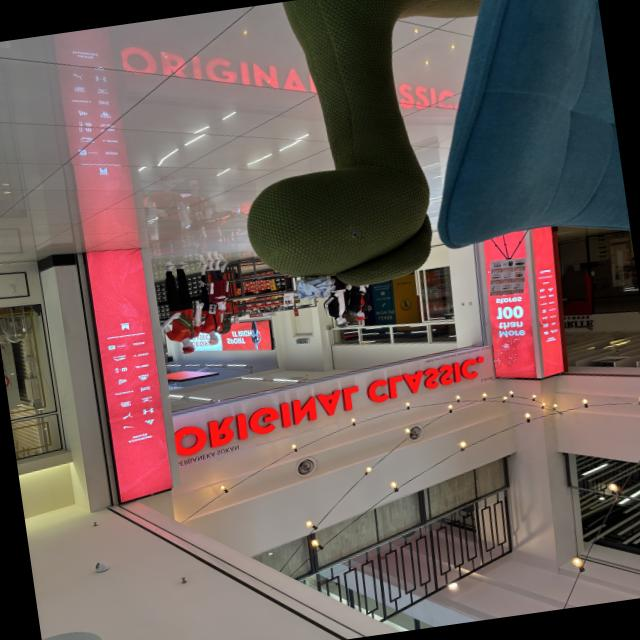crumpled_paper: (291, 271, 339, 304)
